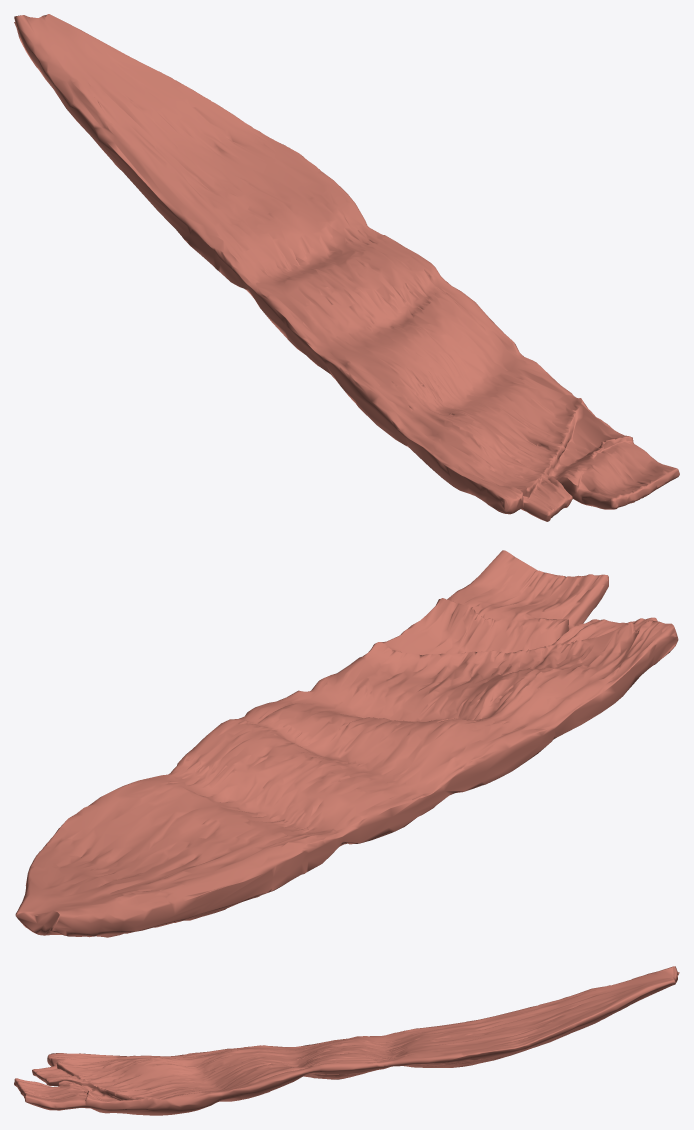
The picture shows the model from 3 angles, top to bottom: view 1: azimuth 30°, elevation 25°; view 2: azimuth 150°, elevation 25°; view 3: azimuth 270°, elevation 25°; orthographic projection. The views are drawn at different scales.
Visible parts, largest first — view 1: 左侧腹直肌; view 2: 左侧腹直肌; view 3: 左侧腹直肌.
Boxes of the visible parts, x1,y1,x2,y2 form: 左侧腹直肌: [14, 14, 679, 521]; 左侧腹直肌: [15, 550, 678, 937]; 左侧腹直肌: [14, 966, 679, 1115].
Size of the model in its own units: 0.1158 by 0.11 by 0.6018.
